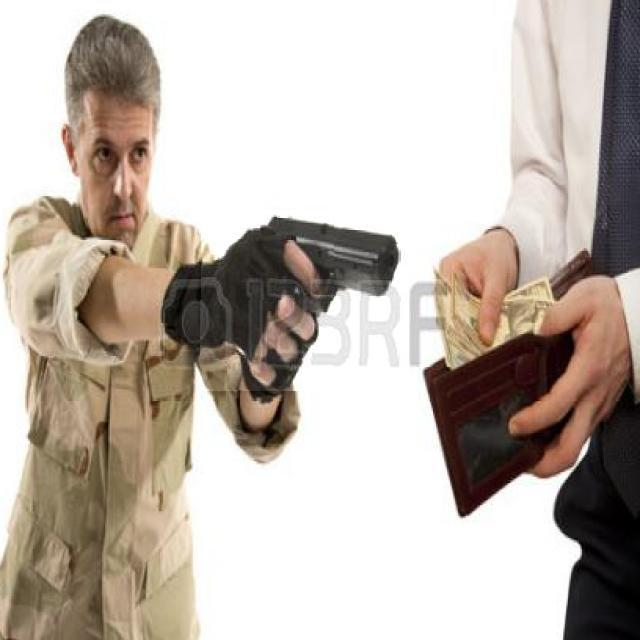handgun: (200, 209, 410, 392)
